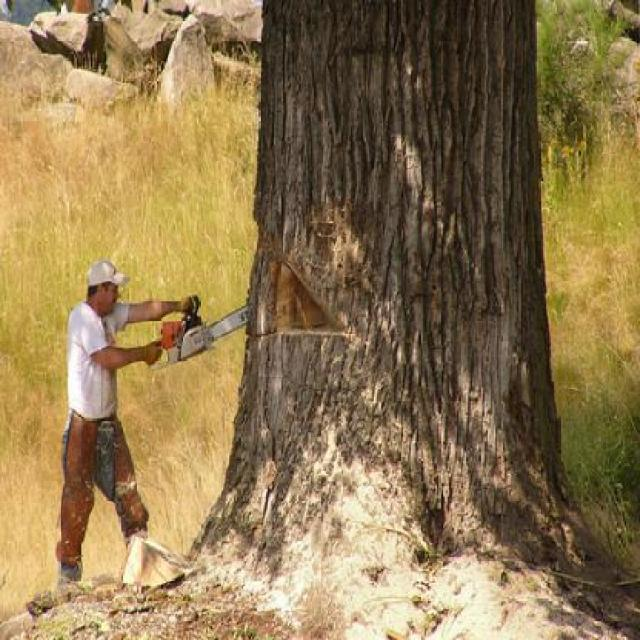Chainsaw: (145, 296, 252, 372)
